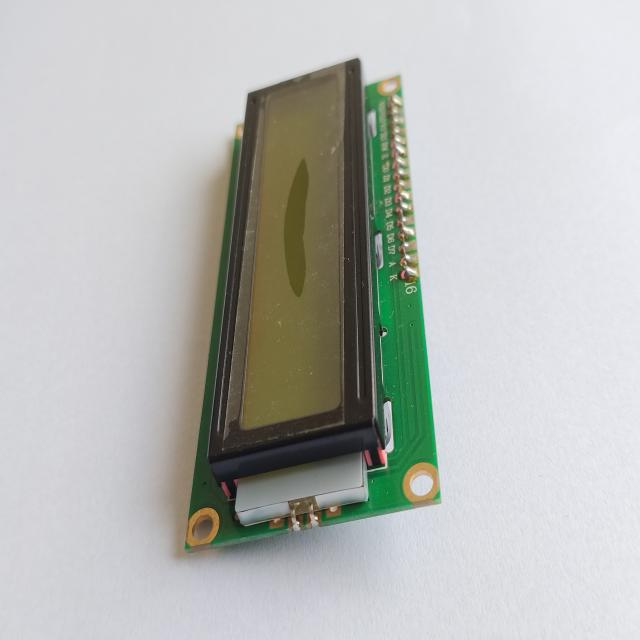lcd: (183, 56, 442, 553)
